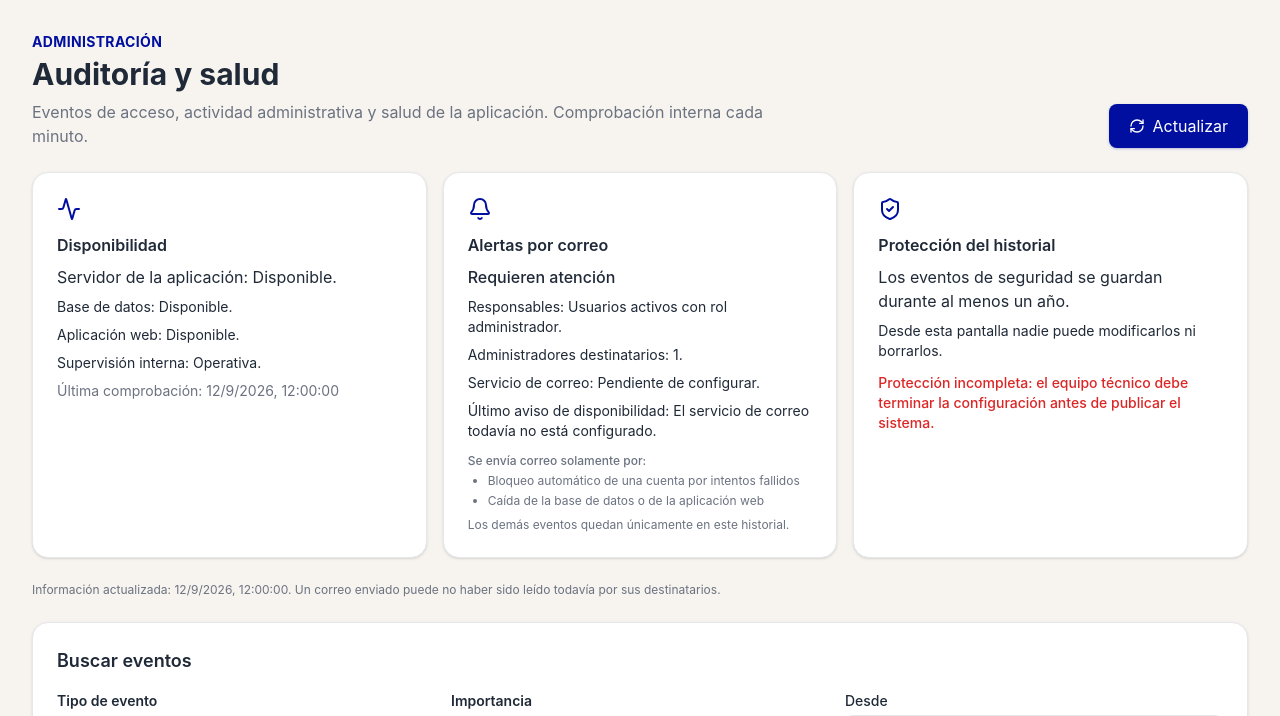
Test case: Auditoría y salud › retira el estado disponible cuando falla la actualización
Expected: the text "Servidor de la aplicación: Disponible." is shown, x1=57 y1=267 x2=337 y2=287
Click the button "Actualizar". click: point(1178, 126)
box: x1=1108 y1=104 x2=1248 y2=148
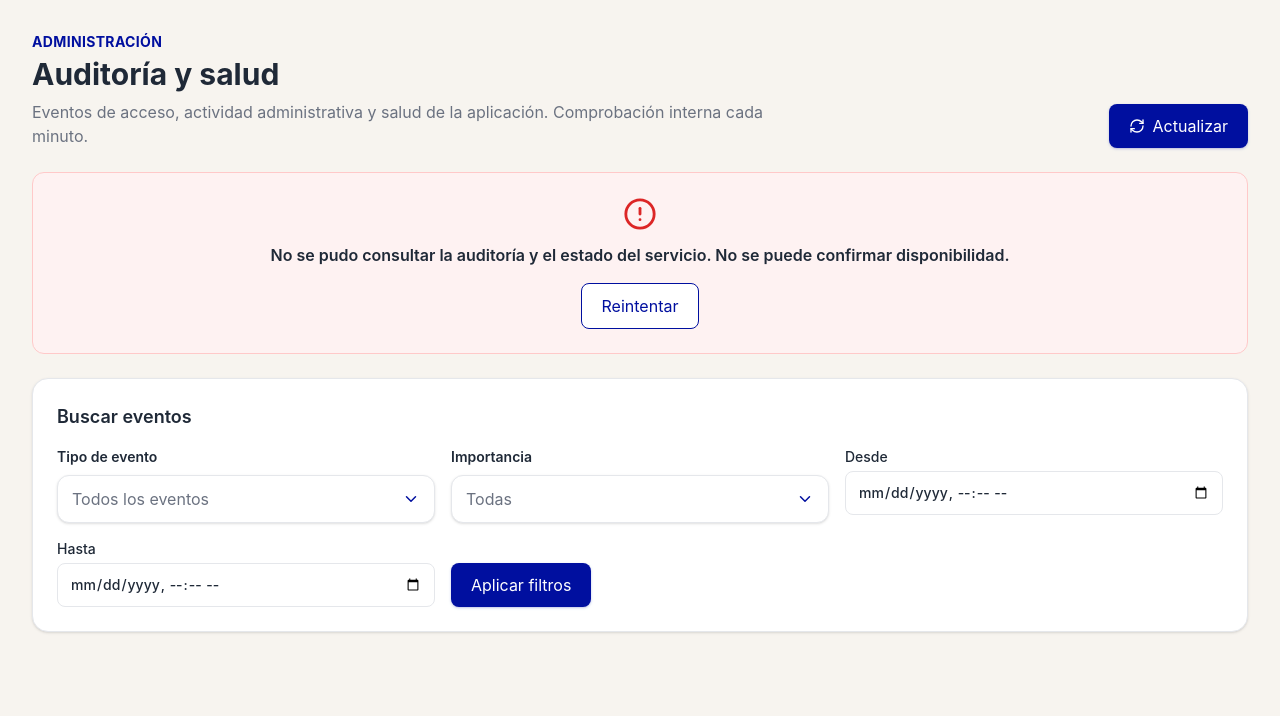
Now the message is shown, box x1=32 y1=172 x2=1248 y2=354
Now the text "Servidor de la aplicación: Disponible" is gone
